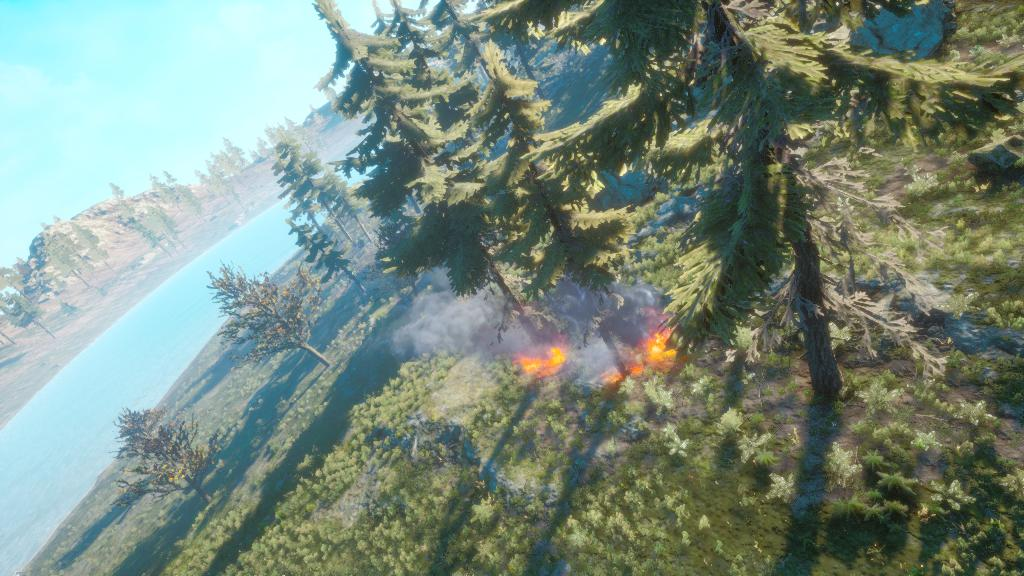Fire: (391, 263, 670, 376), (607, 305, 695, 387), (500, 338, 577, 387)
